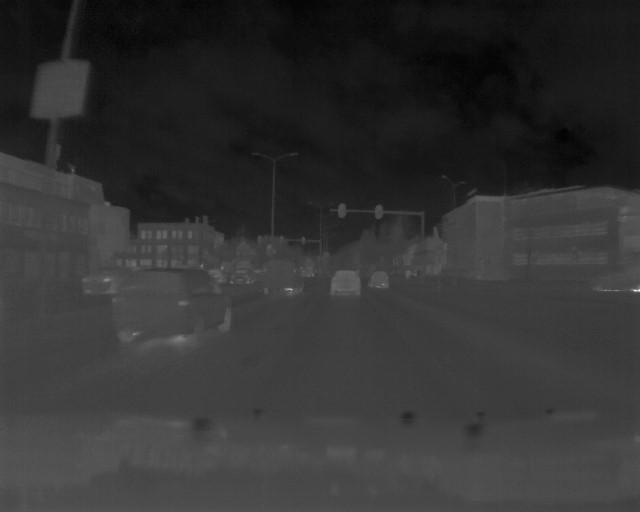car: (110, 263, 237, 350), (82, 263, 133, 296), (262, 257, 306, 295), (323, 270, 363, 298), (230, 265, 258, 287), (366, 269, 391, 292)
